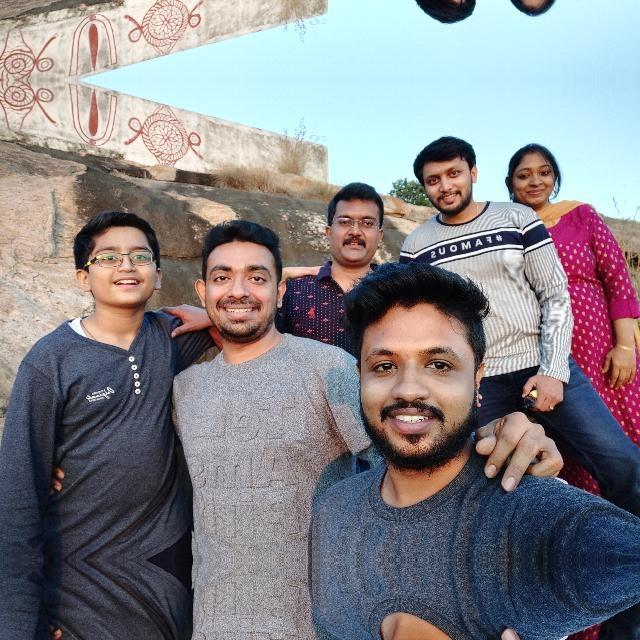person: (346, 275, 498, 521), (189, 210, 301, 418), (46, 202, 180, 348), (498, 116, 582, 252), (400, 125, 494, 242), (324, 170, 394, 296), (345, 599, 498, 640), (498, 0, 581, 43), (400, 0, 494, 35)
